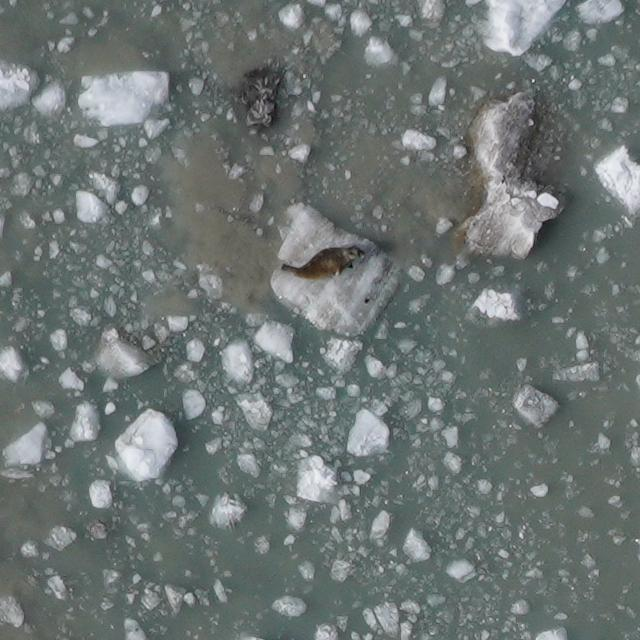seal: (276, 242, 371, 287)
